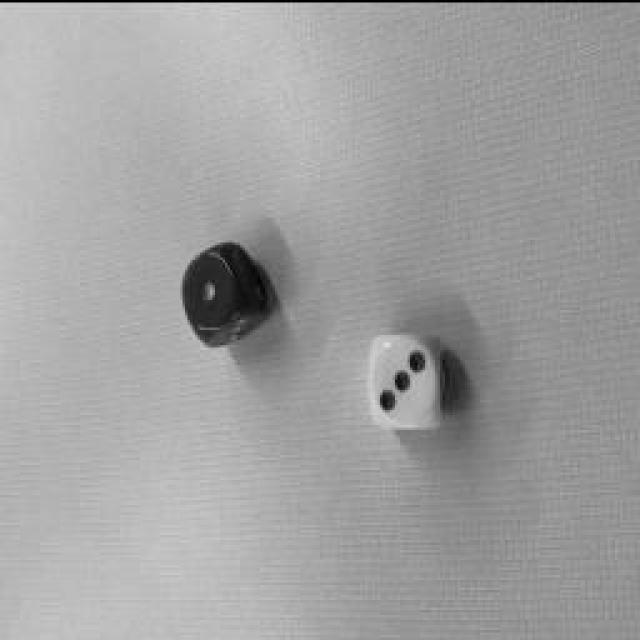dice_1: (182, 250, 238, 330)
dice_3: (370, 337, 440, 425)
